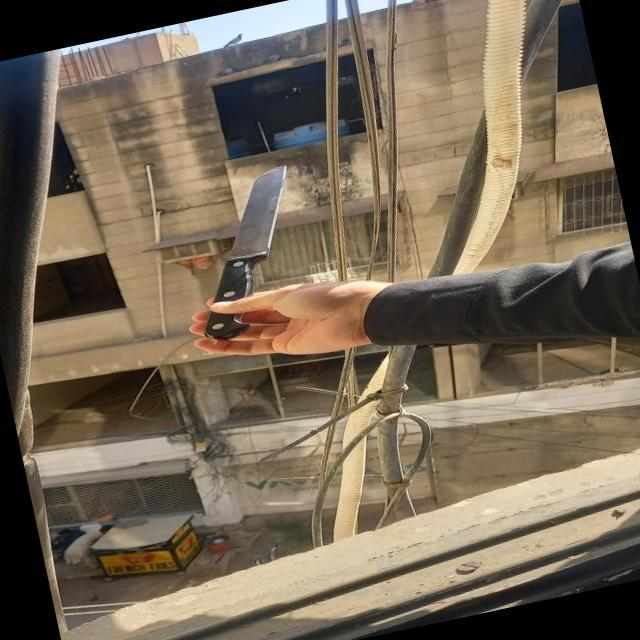Knife: (153, 156, 335, 355)
